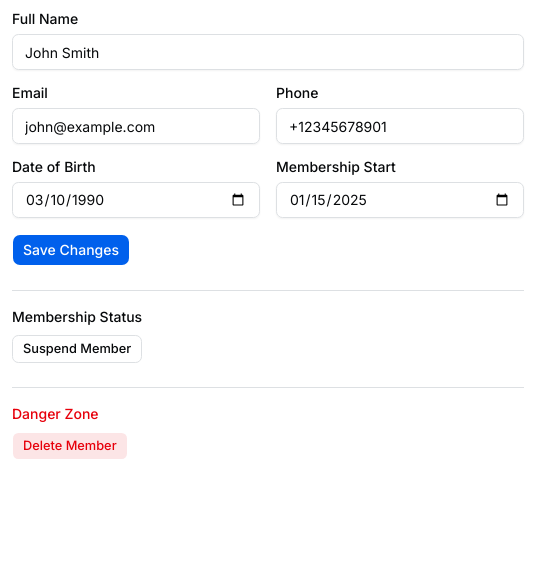
Scenario: EditMemberForm › editMemberForm_emptyDateOfBirth_showsOnlyDateOfBirthFormatErrorAndDoesNotCallUpdate
The image size is (541, 578).
Clear the date field labelled "Date of Birth": (136, 200) x1=12 y1=182 x2=260 y2=218
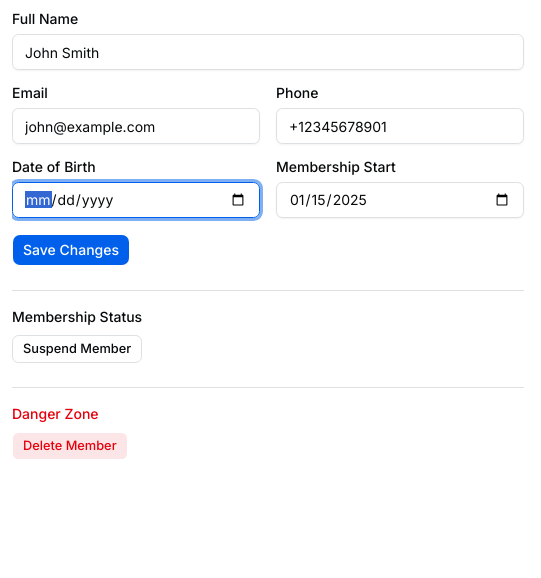
Click the button "Save Changes": (71, 250) x1=12 y1=234 x2=130 y2=266
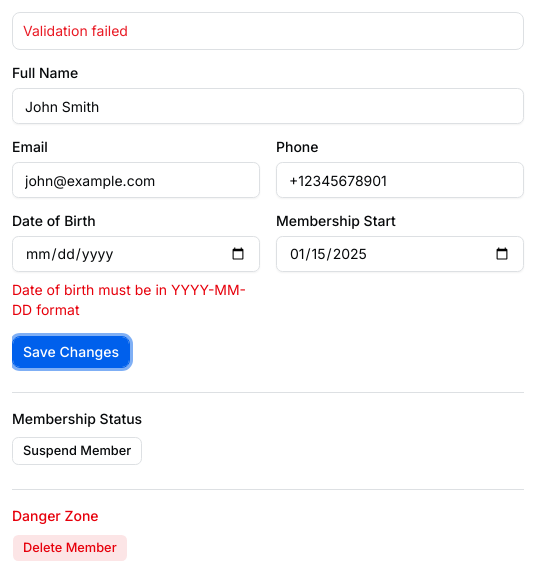
Now the text "Date of birth must be in YYYY-MM-DD format" is shown, box x1=12 y1=280 x2=260 y2=320
